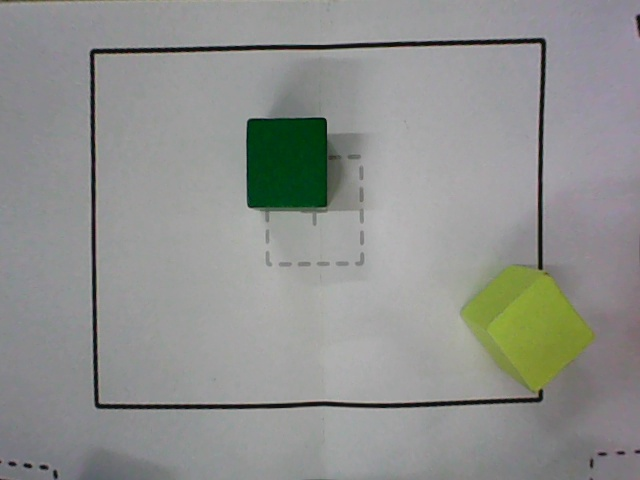upside of small cube: (485, 273, 598, 395), (247, 119, 326, 207)
